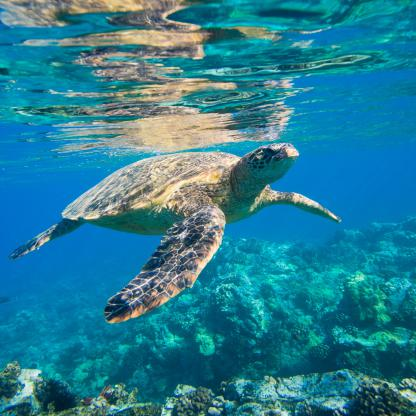turtle: (228, 138, 312, 189)
